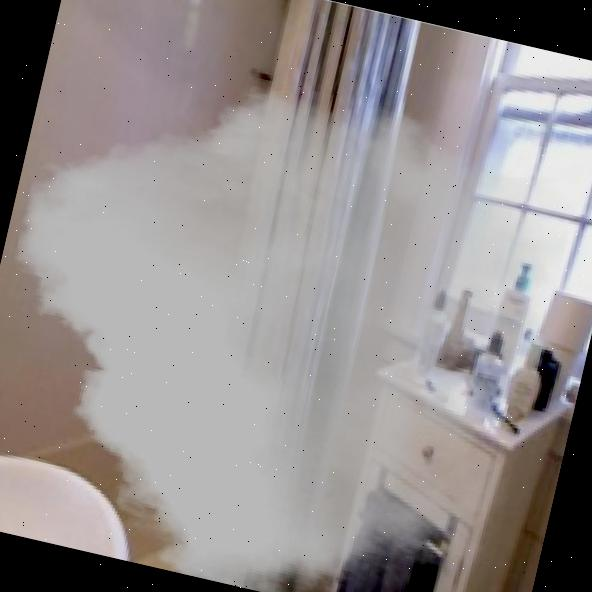smoke: (0, 34, 586, 592)
